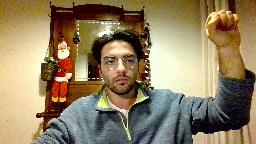Pugno: (201, 8, 243, 48)
